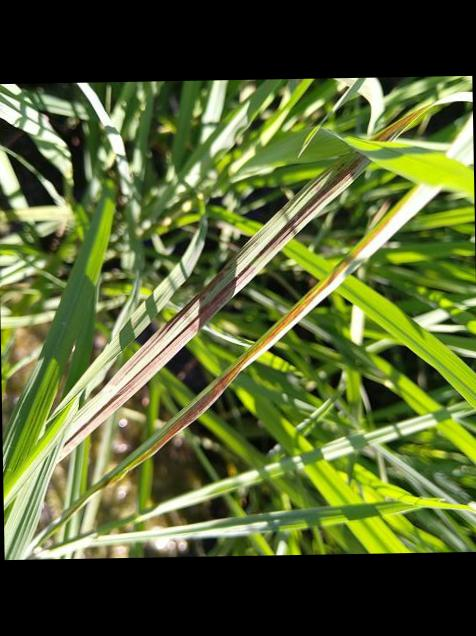Leaf Streak: (61, 157, 368, 447), (58, 244, 371, 525), (372, 105, 428, 142)
